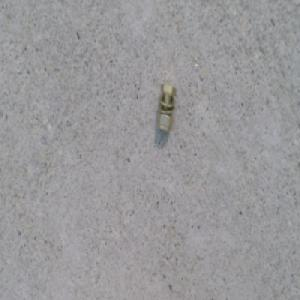BoltNutSet: (156, 84, 178, 133)
